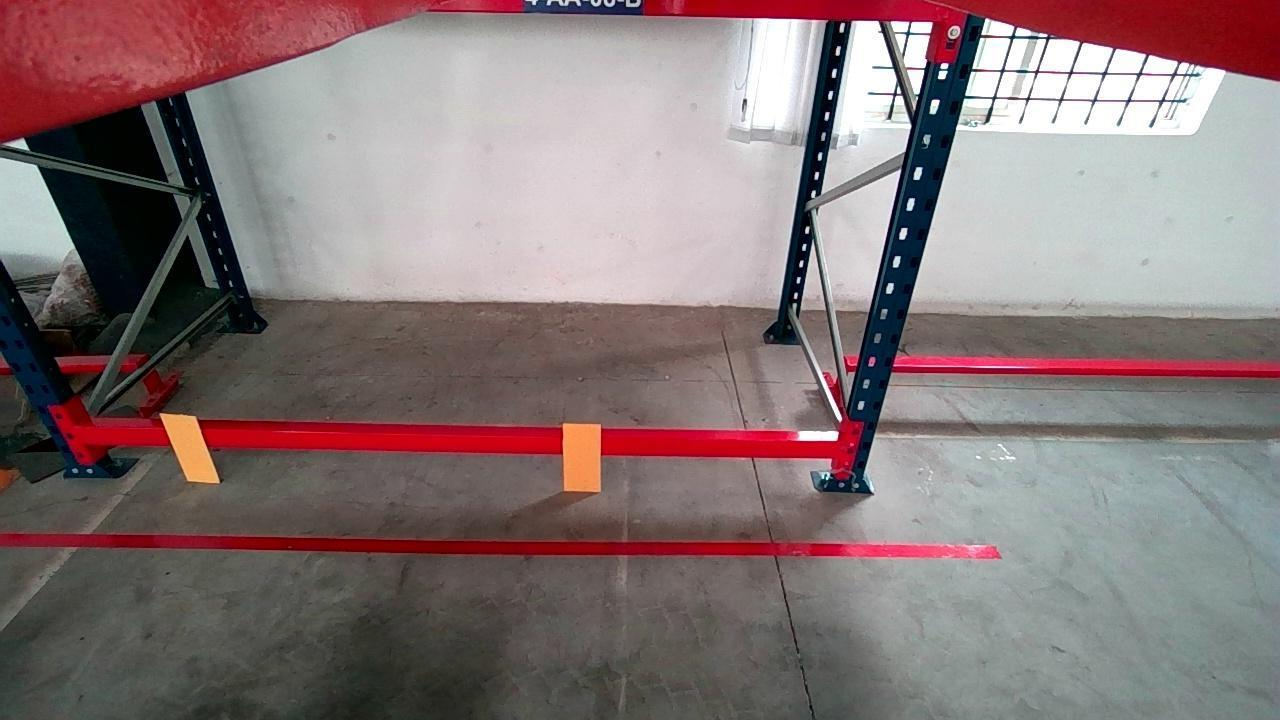h_rack: (79, 427, 843, 458)
orange_strip: (159, 413, 219, 483), (561, 421, 601, 491)
red_line: (0, 530, 1001, 557)
